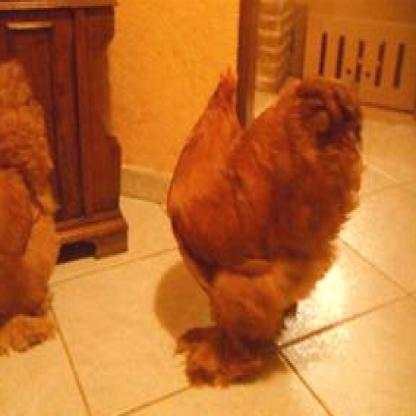chicken: (166, 63, 364, 388)
